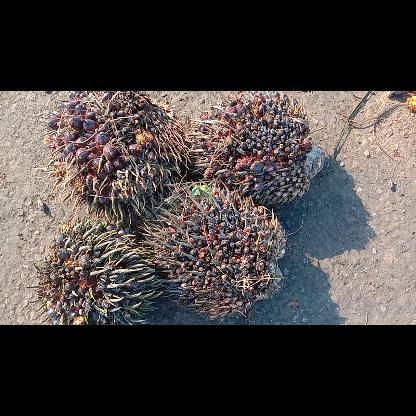TBS abnormal: (137, 176, 289, 320), (188, 91, 330, 207), (26, 212, 166, 324)
TBS masak: (40, 92, 198, 228)
